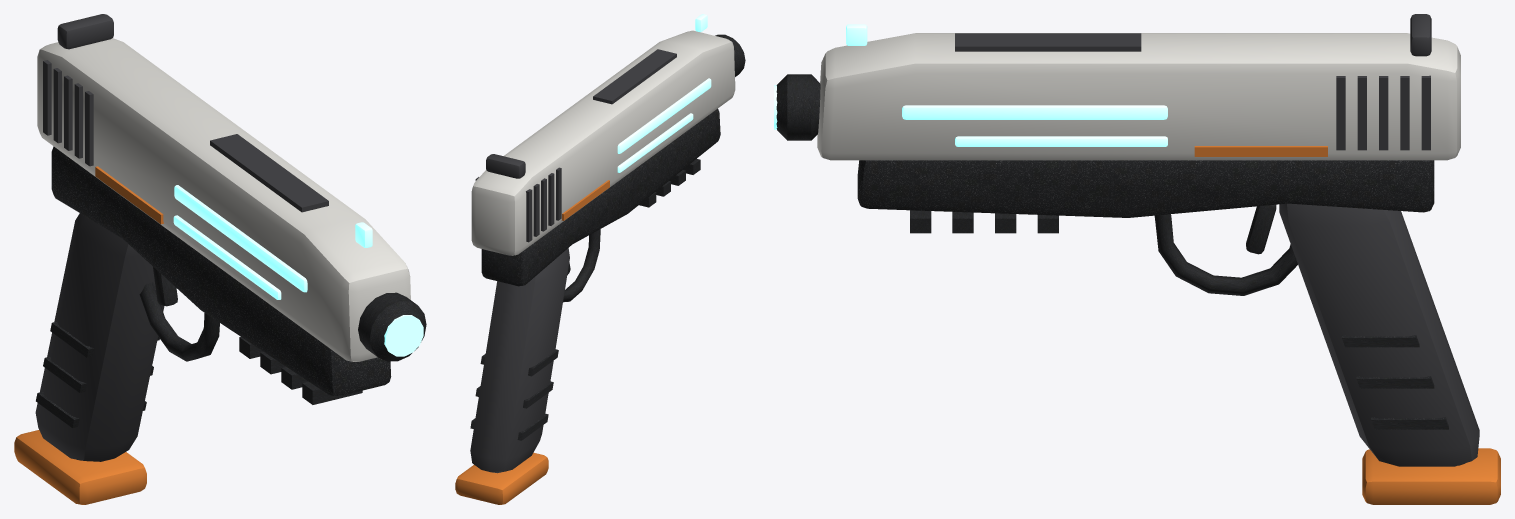
The model's file is energy_pistol.glb.
The picture shows the model from 3 angles, left to right: view 1: azimuth 30°, elevation 25°; view 2: azimuth 150°, elevation 25°; view 3: azimuth 270°, elevation 25°; orthographic projection. The views are drawn at different scales.
Parts seen in each view (by area): view 1: energy_pistol, Mag; view 2: energy_pistol, Mag; view 3: energy_pistol, Mag.
Boxes of the visible parts, box(x1,y1,x2,y2) form: energy_pistol: box(35, 14, 426, 461); Mag: box(14, 430, 146, 504); energy_pistol: box(470, 14, 745, 473); Mag: box(455, 452, 548, 504); energy_pistol: box(774, 14, 1479, 466); Mag: box(1362, 448, 1500, 504).
Bounding box in the file's own units: 0.0334 × 0.195 × 0.273.
5 materials, 1 textured.
